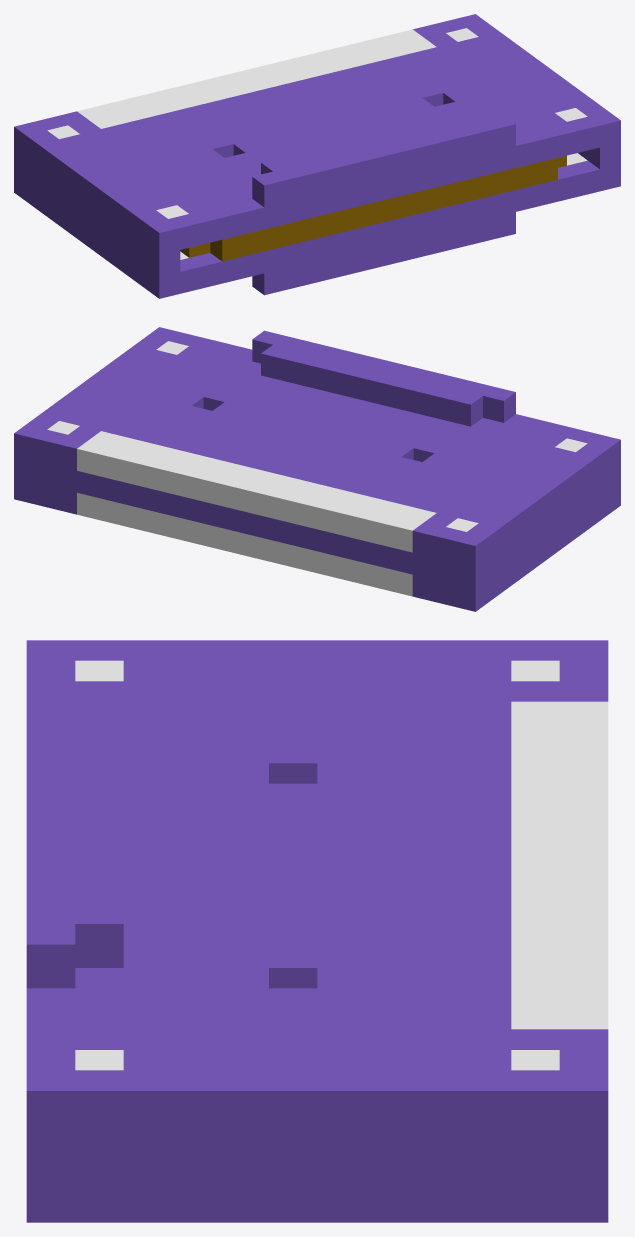
File: Cassette00.gltf
3 renders of one model, top to bottom at view 1: azimuth 30°, elevation 25°; view 2: azimuth 150°, elevation 25°; view 3: azimuth 270°, elevation 25°, orthographic. The views are drawn at different scales.
Bounding box in the file's own units: 22 × 5 × 12.
